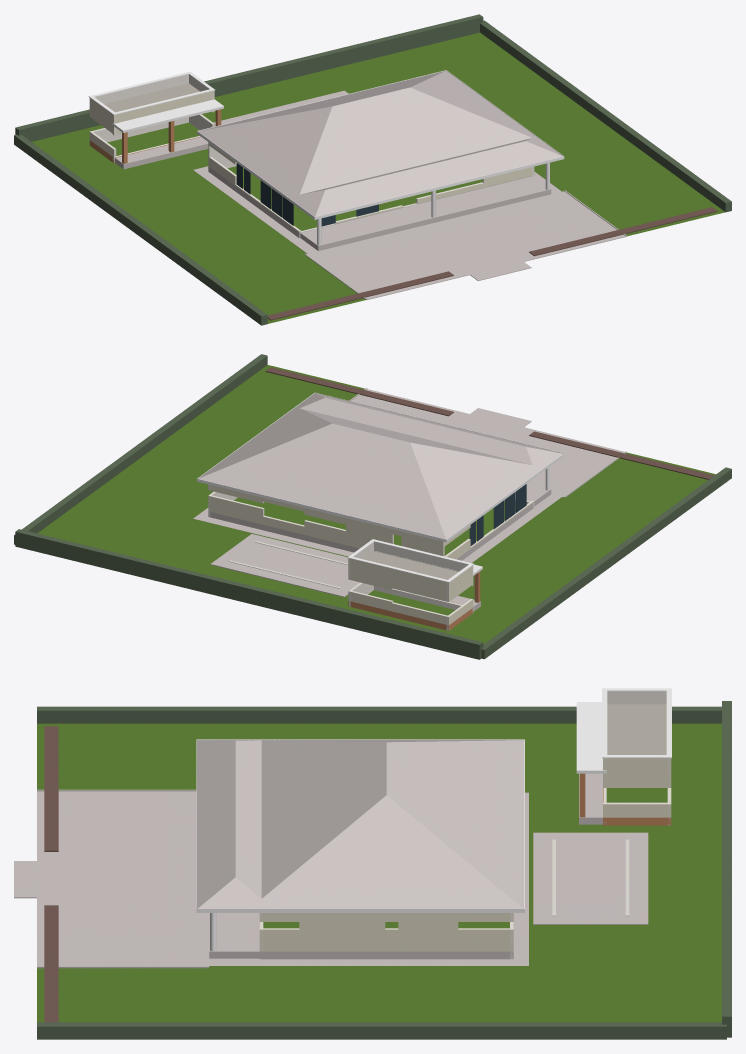
The model's file is est_S8_lod1.glb.
The picture shows the model from 3 angles, top to bottom: view 1: azimuth 30°, elevation 25°; view 2: azimuth 150°, elevation 25°; view 3: azimuth 270°, elevation 25°; orthographic projection. The views are drawn at different scales.
Visible parts, largest first — view 1: GR_est_S8_lod1; view 2: GR_est_S8_lod1; view 3: GR_est_S8_lod1.
Part boxes in pixels (left/top/right/bottom): GR_est_S8_lod1: left=14, top=14, right=731, bottom=325; GR_est_S8_lod1: left=14, top=354, right=731, bottom=659; GR_est_S8_lod1: left=14, top=688, right=731, bottom=1039.
Bounding box in the file's own units: 52.7 × 9.97 × 49.95.
Materials: 2 (1 with a texture image).
